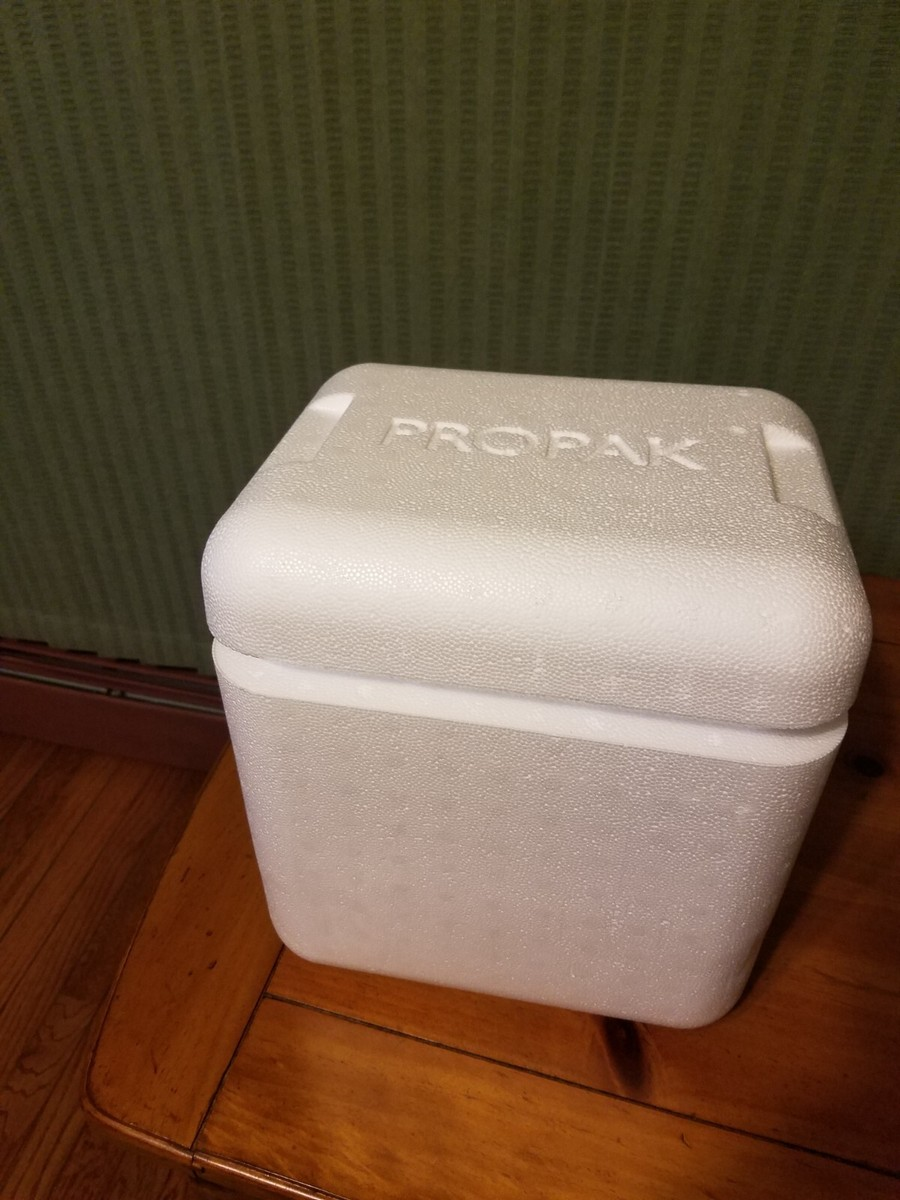Boxes: (202, 365, 870, 1027)
